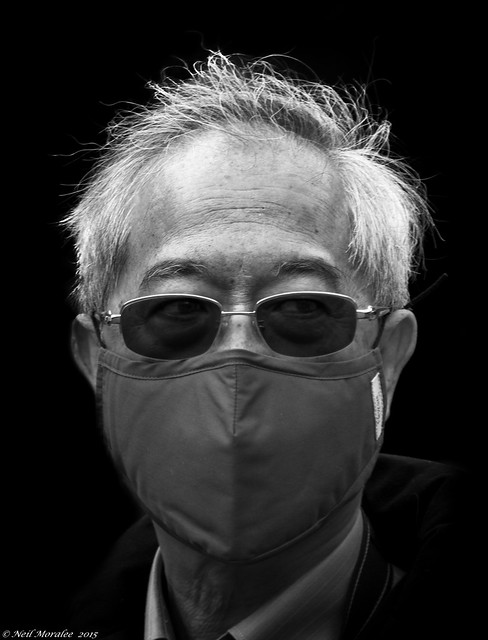mask: (94, 339, 404, 562)
